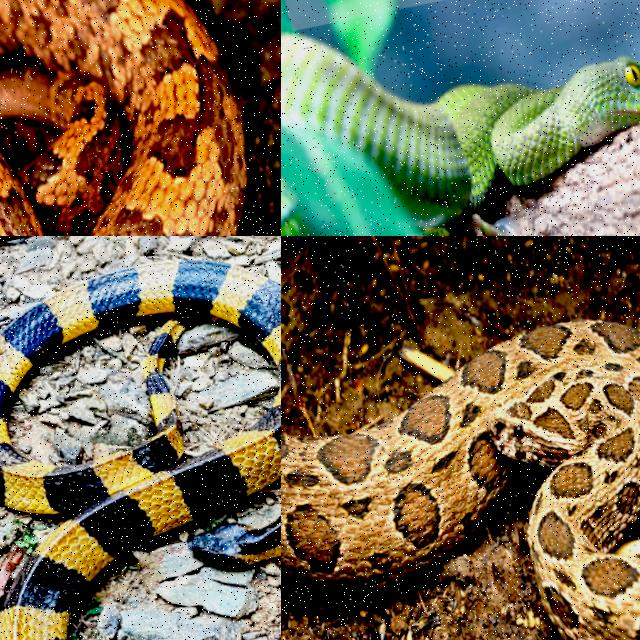Bungarus fasciatus: (0, 261, 280, 639)
Daboia siamensis: (281, 321, 639, 639)
Ovophis monticola: (0, 0, 246, 235)
Trimeresurus macrops: (281, 34, 639, 228)
snake: (281, 321, 639, 639), (0, 261, 280, 639), (281, 34, 639, 228), (0, 0, 246, 235)
